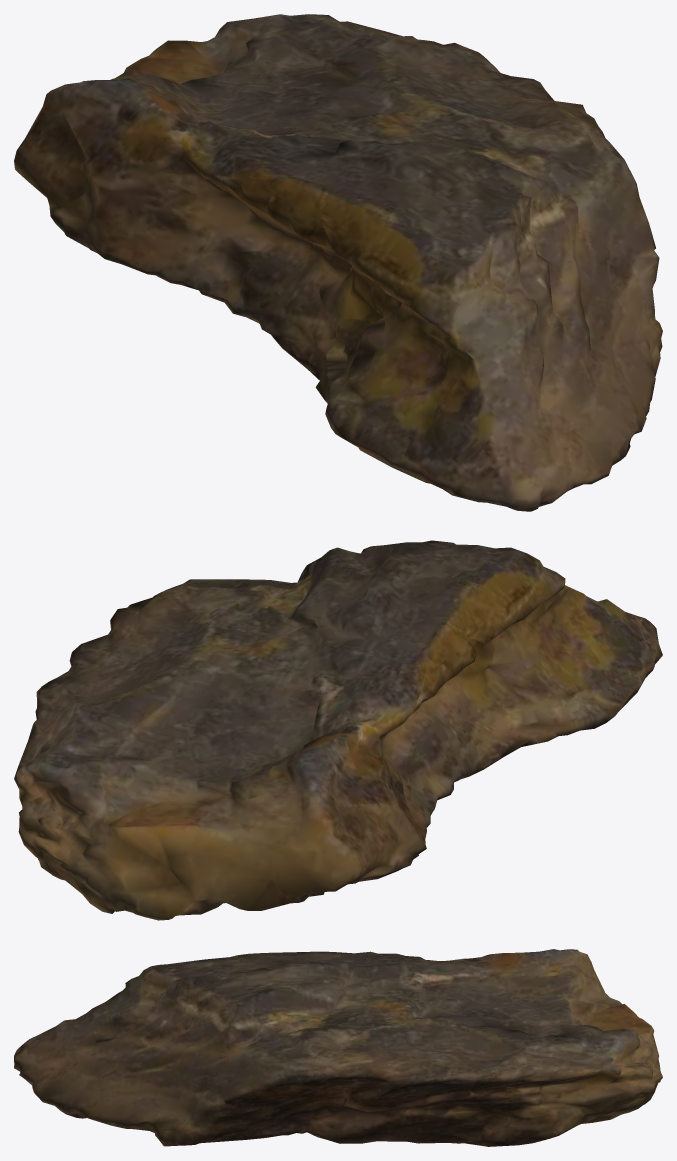
File: rock_09.glb
3 renders of one model, top to bottom at view 1: azimuth 30°, elevation 25°; view 2: azimuth 150°, elevation 25°; view 3: azimuth 270°, elevation 25°, orthographic. The views are drawn at different scales.
Visible parts, largest first — view 1: rock_09_LOD0; view 2: rock_09_LOD0; view 3: rock_09_LOD0.
Part boxes in pixels (x1,y1,x2,y2): rock_09_LOD0: (14,14,662,511); rock_09_LOD0: (14,540,662,920); rock_09_LOD0: (14,949,662,1146).
Bounding box in the file's own units: 0.074 × 0.0328 × 0.1446.
Materials: 1 (1 with a texture image).
